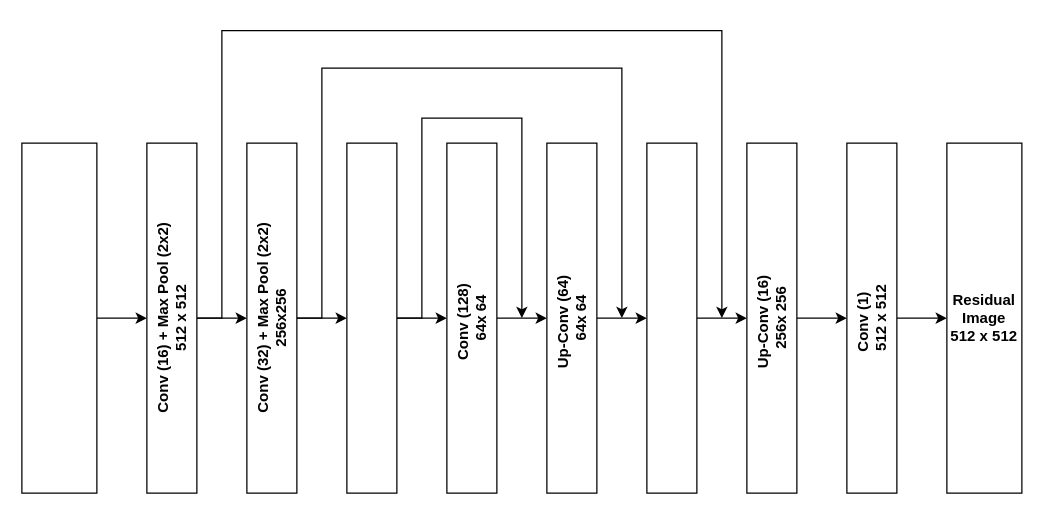
Some shapes in this 1044 by 515 pixel diagram are drawn without their labels. Each missing label, with the centre of its shape:
Conv (64) + Max Pool (2x2) 128x128: point (371, 317)
Low Dose Image 512 x 512: point (59, 317)
Up-Conv (32) 128x128: point (671, 317)
